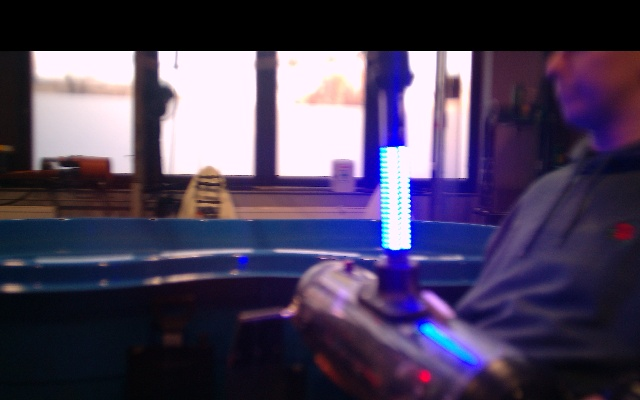blue: (378, 145, 412, 253)
